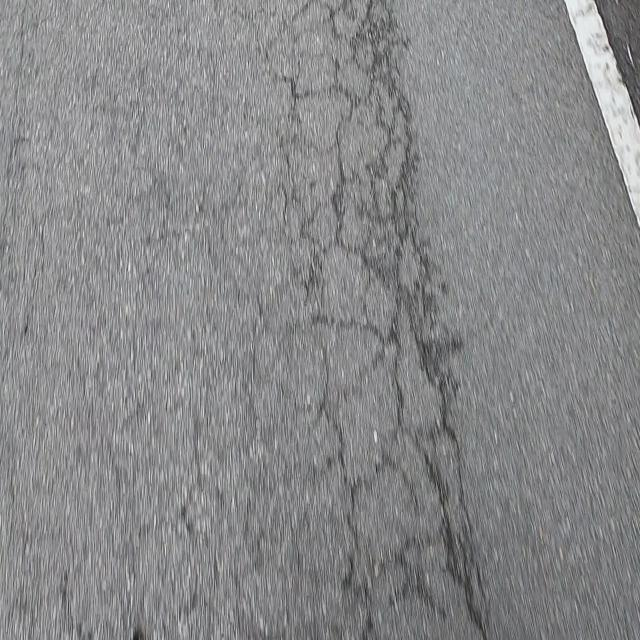Retak-Buaya: (287, 5, 488, 640)
